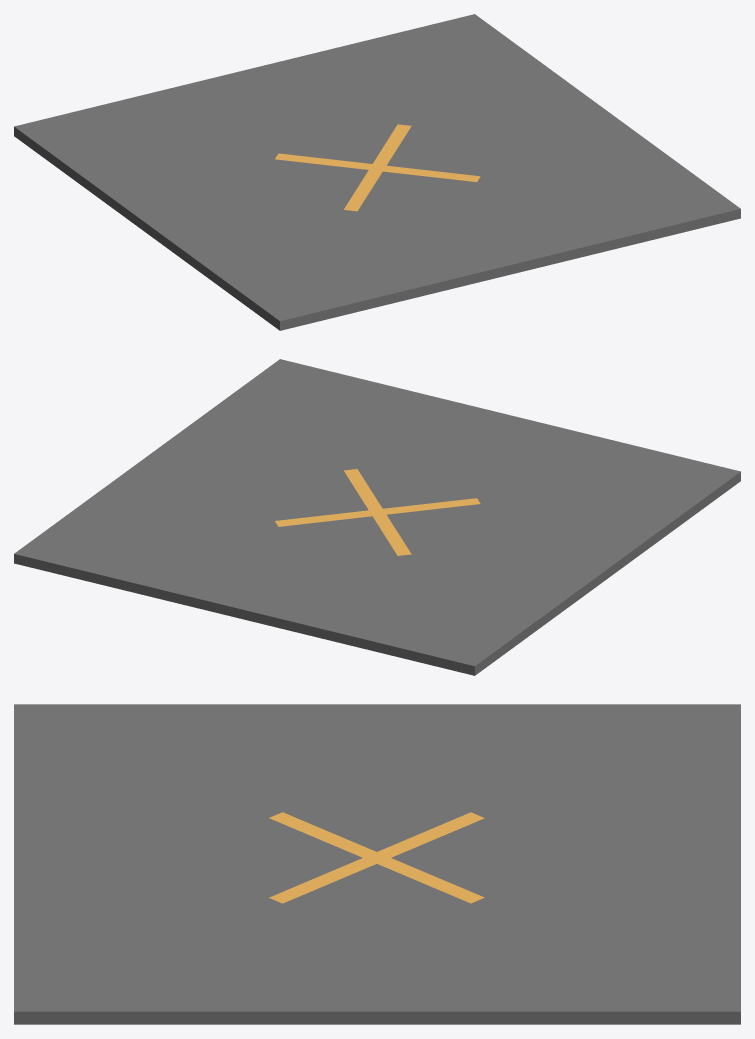
The model's file is Floor_08.fbx.
3 renders of one model, top to bottom at view 1: azimuth 30°, elevation 25°; view 2: azimuth 150°, elevation 25°; view 3: azimuth 270°, elevation 25°, orthographic. The views are drawn at different scales.
Visible parts, largest first — view 1: Floor_08; view 2: Floor_08; view 3: Floor_08.
Part boxes in pixels (x1=…): Floor_08: x1=14, y1=14, x2=740, y2=330; Floor_08: x1=14, y1=359, x2=740, y2=675; Floor_08: x1=14, y1=704, x2=740, y2=1024.
Size of the model in its own units: 500 by 10 by 500.
